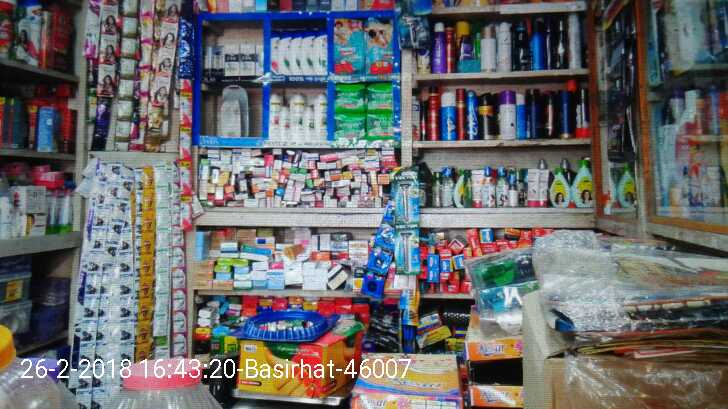gillete: (397, 167, 417, 228), (397, 228, 417, 273), (576, 85, 591, 132), (404, 285, 415, 324)
venus: (217, 85, 249, 133)
